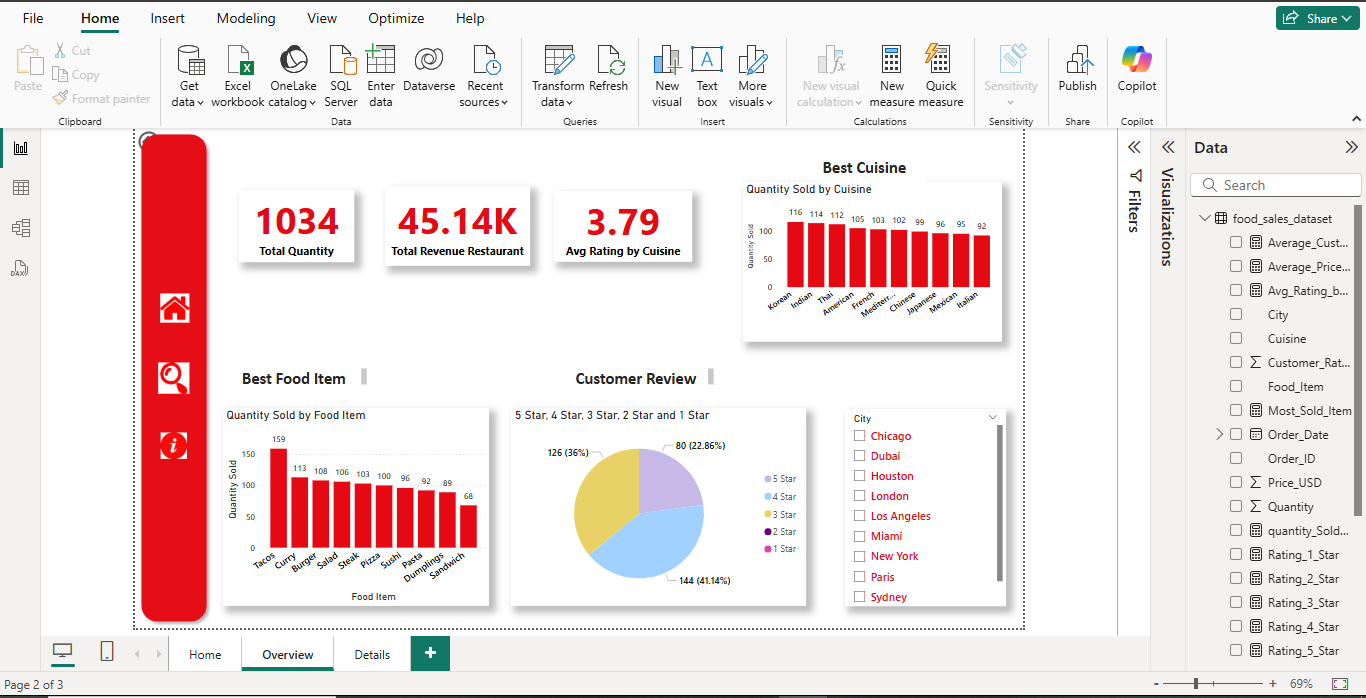

What the dashboard file says about the page in this screenshot:
{"tool":"powerbi","page":{"name":"Overview","canvas":[1280,720],"ordinal":1},"visuals":[{"type":"actionButton","box":[0,0,100,40],"z":0},{"type":"card","fields":{"Values":["food_sales_dataset.Total_Quantity"]},"box":[149.8,89.3,165.6,103.7],"z":1000},{"type":"card","fields":{"Values":["food_sales_dataset.Total_Revenue_Restaurant"]},"box":[360,83.5,208.8,115.2],"z":2000},{"type":"card","fields":{"Values":["food_sales_dataset.Avg_Rating_by_Cuisine"]},"box":[603.4,90.7,198.7,102.2],"z":3000},{"type":"columnChart","fields":{"Category":["food_sales_dataset.Cuisine"],"Y":["food_sales_dataset.quantity_Sold_by_Cuisine"]},"box":[875.5,77.8,373,230.4],"z":4000},{"type":"columnChart","fields":{"Category":["food_sales_dataset.Food_Item"],"Y":["food_sales_dataset.quantity_Sold_by_Cuisine"]},"box":[126.7,403.2,383,285.1],"z":5000},{"type":"pieChart","fields":{"Y":["food_sales_dataset.Rating_5_Star","food_sales_dataset.Rating_4_Star","food_sales_dataset.Rating_3_Star","food_sales_dataset.Rating_2_Star","food_sales_dataset.Rating_1_Star"]},"box":[541.4,403.2,424.8,285.1],"z":6000},{"type":"slicer","fields":{"Values":["food_sales_dataset.City"]},"box":[1022.4,404.6,231.8,283.7],"z":7000},{"type":"shape","box":[0,0,112.3,720],"z":11001},{"type":"image","box":[27.4,233.3,59,51.8],"z":11002},{"type":"image","box":[27.4,332.6,57.6,54.7],"z":11003},{"type":"image","box":[25.9,433.4,59,47.5],"z":11004},{"type":"textbox","box":[126.7,341.3,211.7,36],"z":11005},{"type":"textbox","box":[629.3,341.3,208.8,36],"z":11006},{"type":"textbox","box":[985,37.4,154.1,40.3],"z":11007}]}

Visuals, with their boxes on the page's 1280x720 design canvas (x1, y1, x2, y2). These are canvas units, not pixel positions in the 1366x698 screenshot, which may show the page scaled, cropped or inside an application window:
actionButton: bbox(0, 0, 100, 40)
card - food_sales_dataset.Total_Quantity: bbox(150, 89, 315, 193)
card - food_sales_dataset.Total_Revenue_Restaurant: bbox(360, 84, 569, 199)
card - food_sales_dataset.Avg_Rating_by_Cuisine: bbox(603, 91, 802, 193)
columnChart - food_sales_dataset.Cuisine x food_sales_dataset.quantity_Sold_by_Cuisine: bbox(876, 78, 1248, 308)
columnChart - food_sales_dataset.Food_Item x food_sales_dataset.quantity_Sold_by_Cuisine: bbox(127, 403, 510, 688)
pieChart - food_sales_dataset.Rating_5_Star x food_sales_dataset.Rating_4_Star: bbox(541, 403, 966, 688)
slicer - food_sales_dataset.City: bbox(1022, 405, 1254, 688)
shape: bbox(0, 0, 112, 720)
image: bbox(27, 233, 86, 285)
image: bbox(27, 333, 85, 387)
image: bbox(26, 433, 85, 481)
textbox: bbox(127, 341, 338, 377)
textbox: bbox(629, 341, 838, 377)
textbox: bbox(985, 37, 1139, 78)
